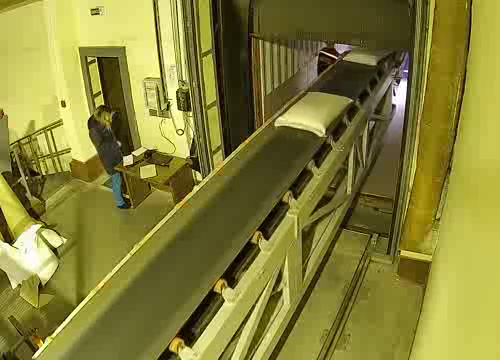bag: (274, 89, 354, 138), (342, 47, 395, 68)
